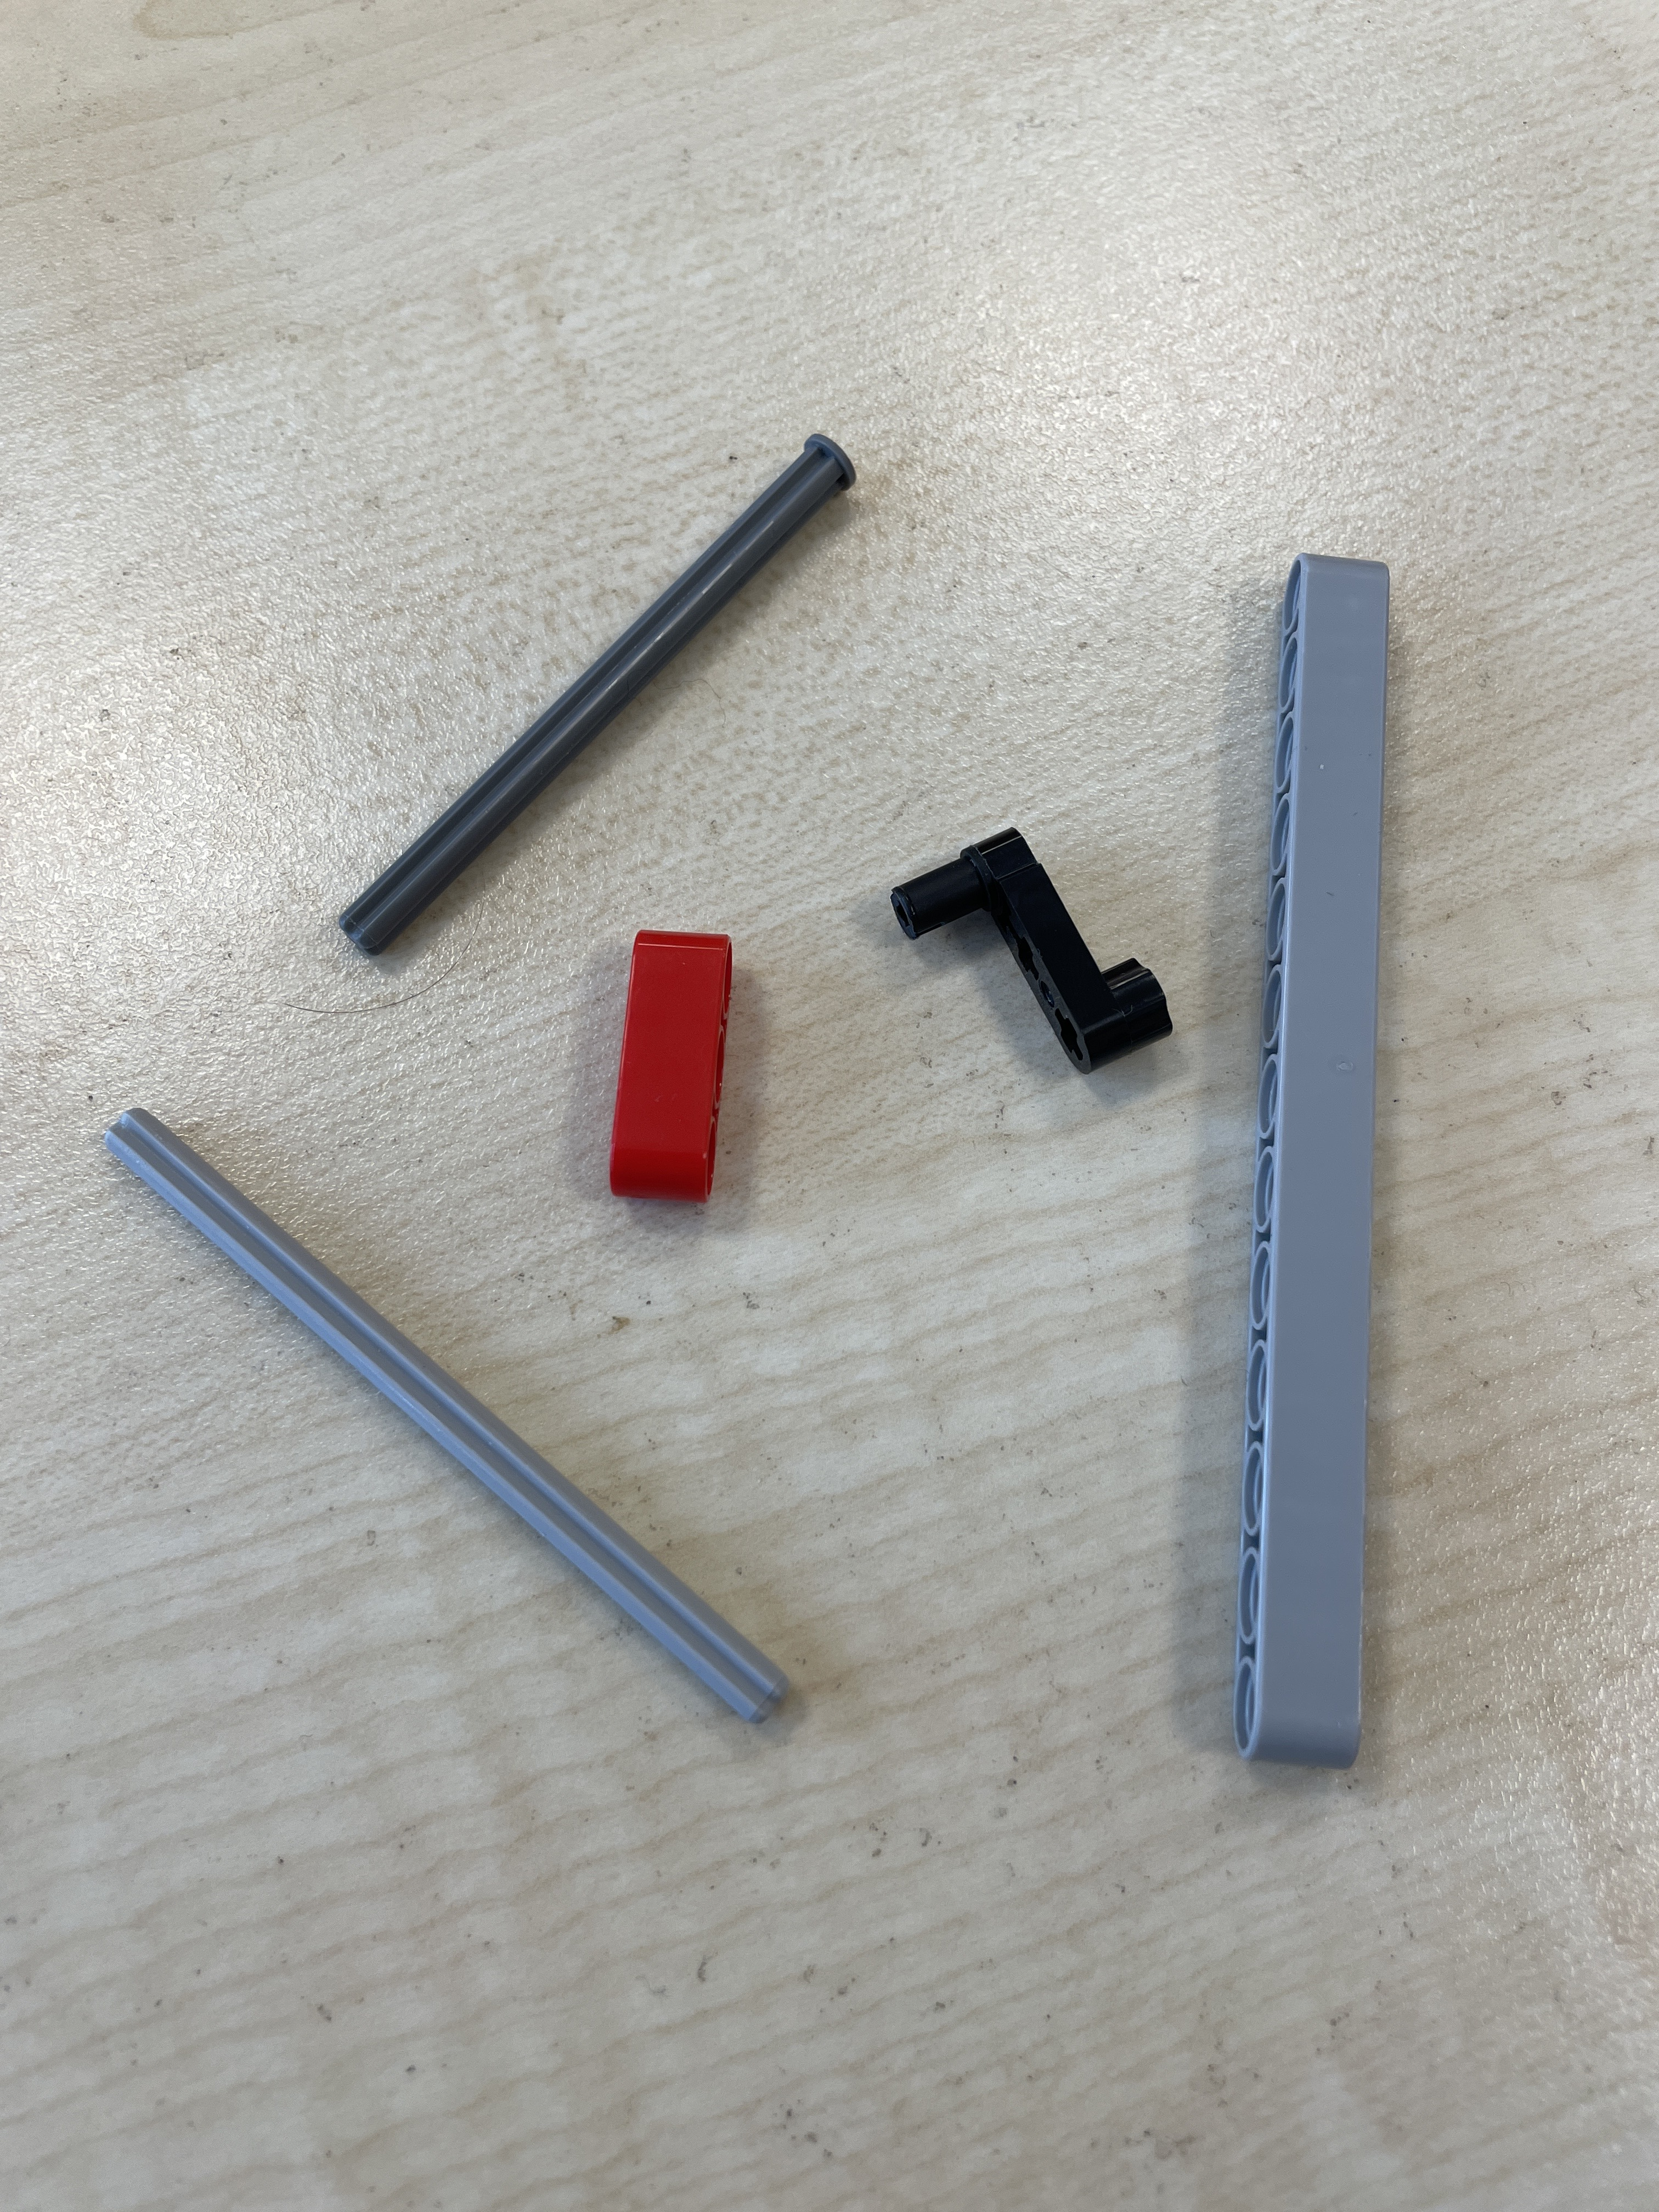13gat: (1229, 547, 1398, 1778)
3gat: (596, 918, 744, 1211)
plusstaaf: (101, 1096, 802, 1737)
plusstaafdicht: (319, 427, 864, 974)
verbindstukzwart: (884, 813, 1180, 1083)
